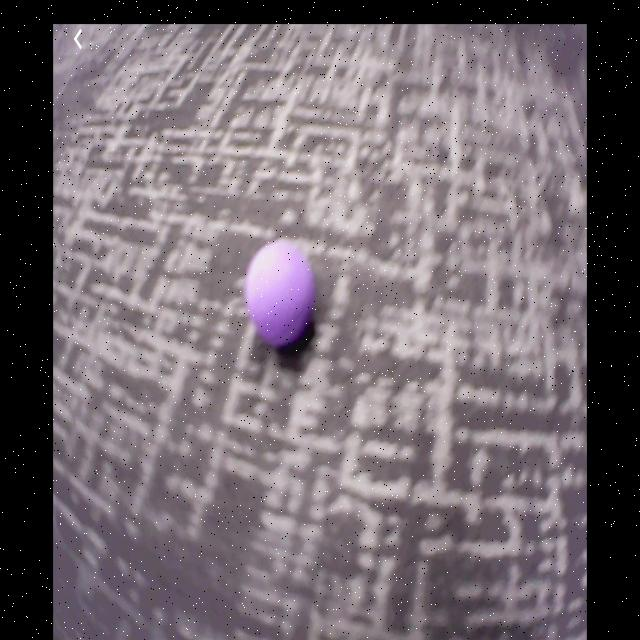ball: (253, 243, 315, 344)
